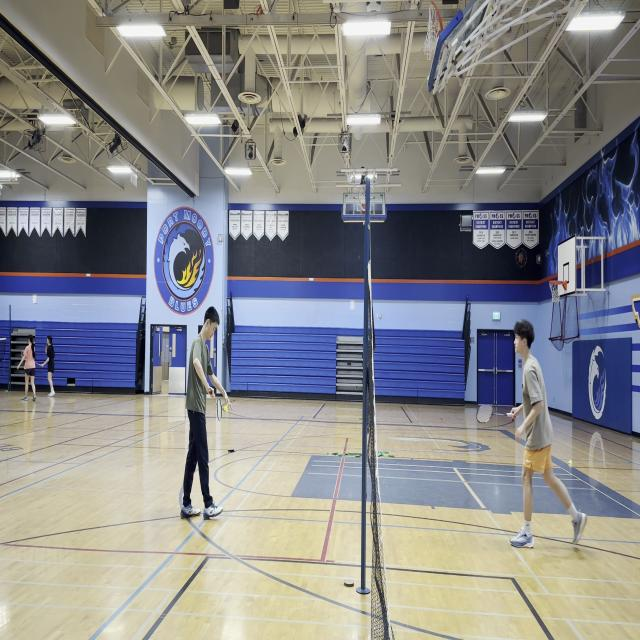shuttlecock: (222, 404, 229, 412)
